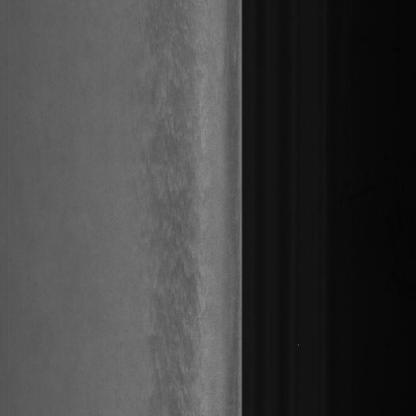silk_spot: (141, 29, 201, 384)
